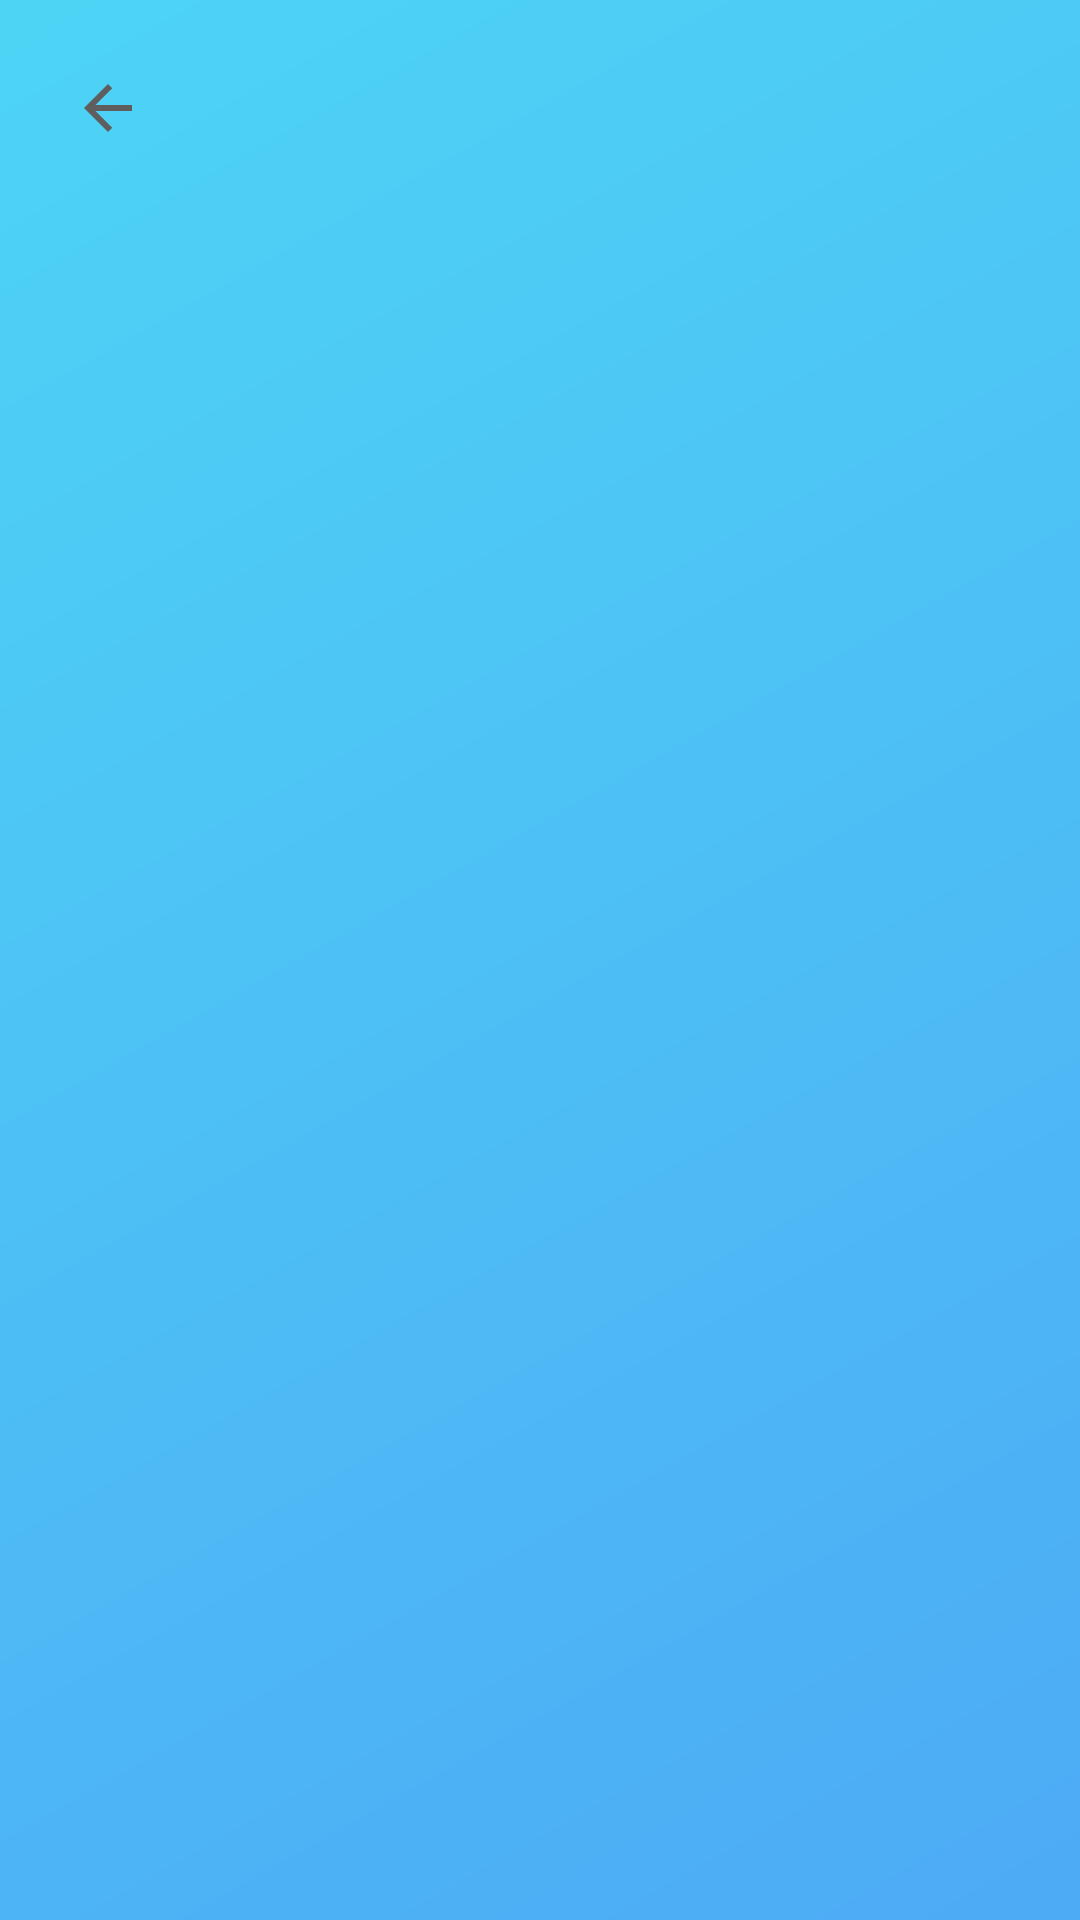

Screen size 1080px×1920px. Icon name, then its center in pixels as point (x, y):
back: point (108, 108)
